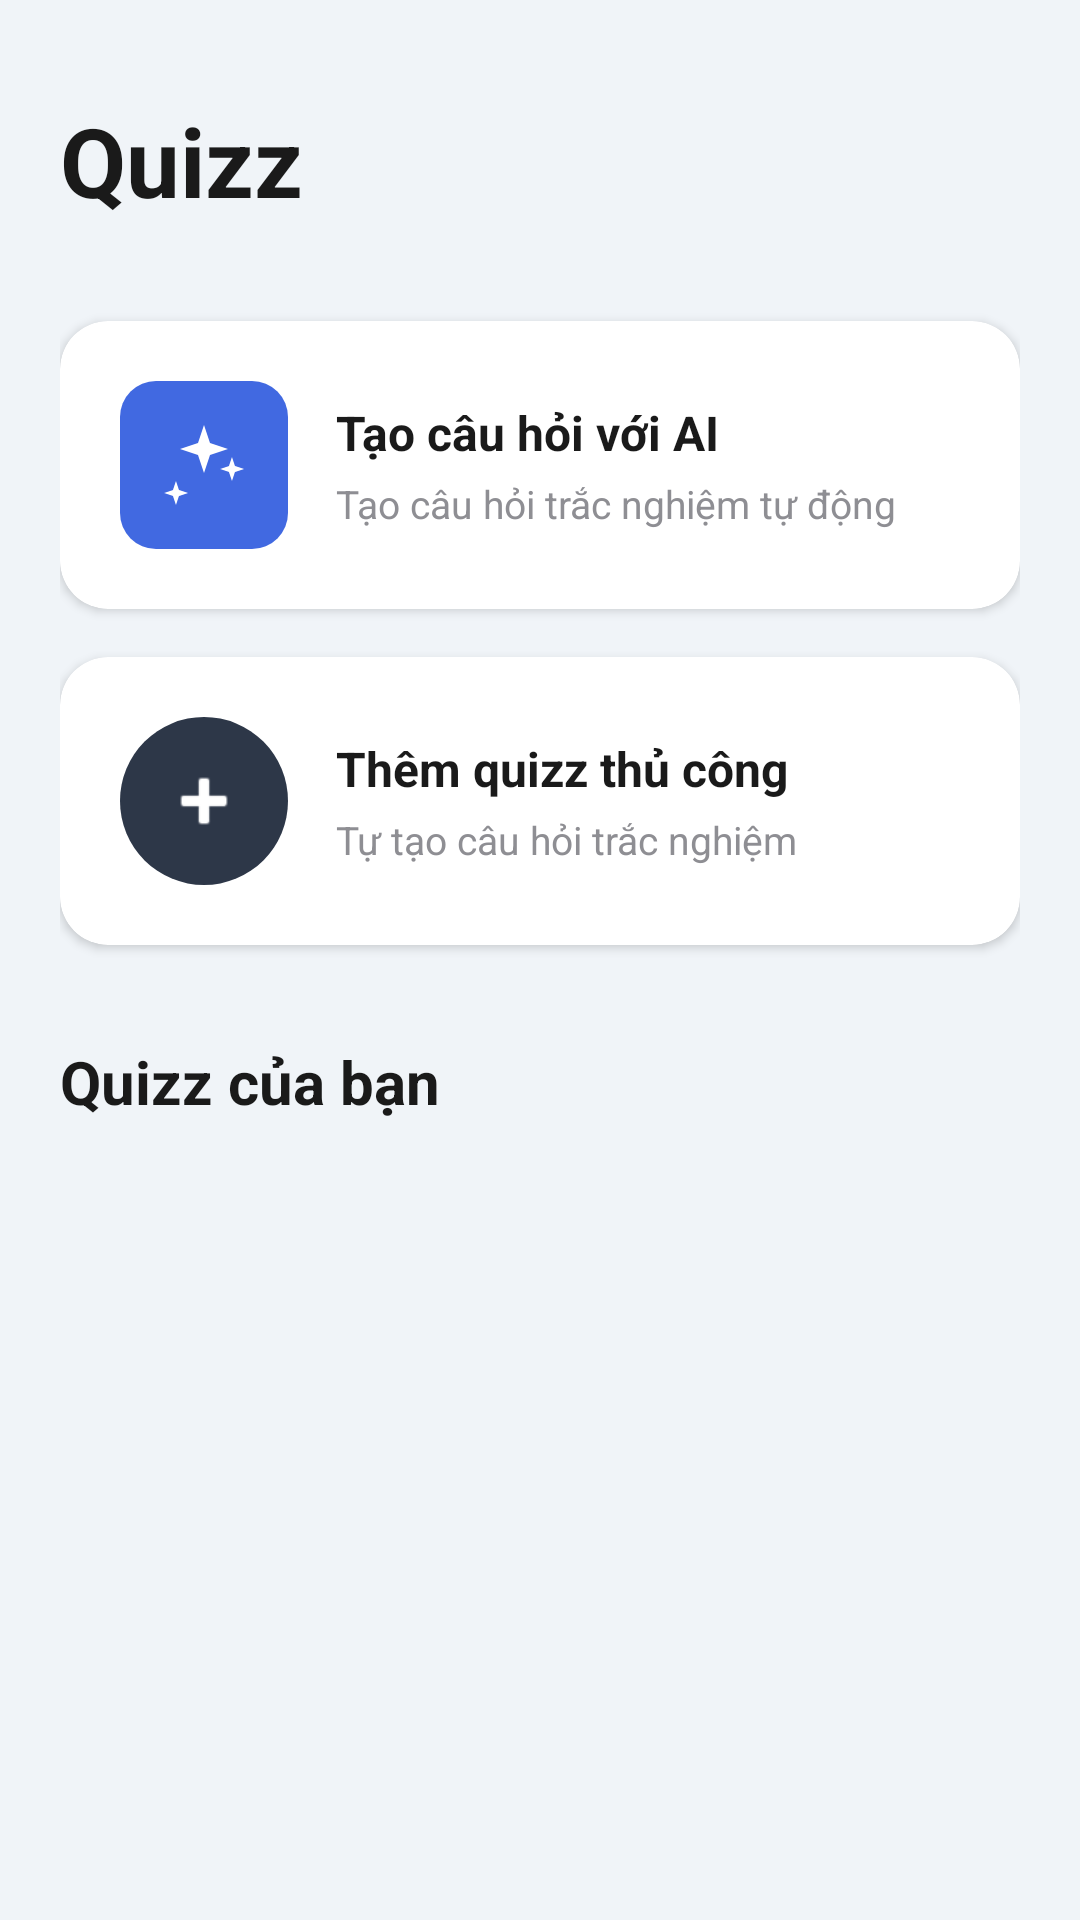

Where icons sit on this 1080 x 1920 app screen, as (x1, y1, x2, y2):
add: (180, 777, 228, 825)
ai sparkles: (165, 425, 244, 505)
